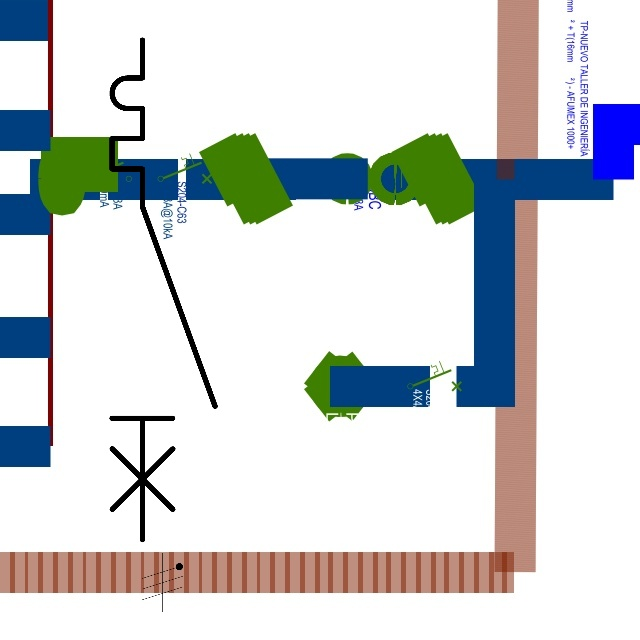interruptor_termomagnetico: (99, 27, 227, 553)
